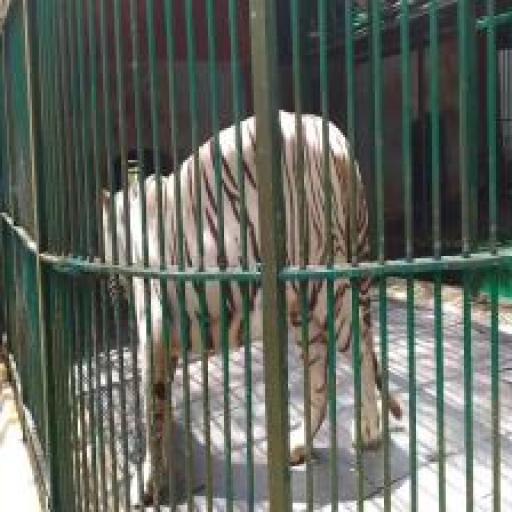Tiger: (134, 277, 154, 501), (359, 279, 381, 448), (302, 116, 326, 266), (150, 279, 166, 490), (308, 279, 329, 438), (219, 126, 241, 268), (280, 110, 299, 267), (329, 123, 350, 264), (241, 117, 260, 267), (199, 139, 218, 268), (180, 155, 198, 267), (161, 174, 178, 268), (334, 279, 353, 363), (145, 176, 160, 267), (167, 281, 181, 374), (356, 165, 369, 261), (286, 281, 302, 351), (129, 183, 143, 263), (227, 283, 244, 348), (205, 281, 221, 349), (186, 283, 201, 354), (102, 188, 112, 262), (115, 190, 125, 263), (250, 283, 262, 339), (290, 421, 305, 464), (389, 391, 402, 418), (131, 476, 139, 505)
